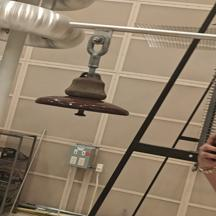insulator: (35, 66, 137, 127)
